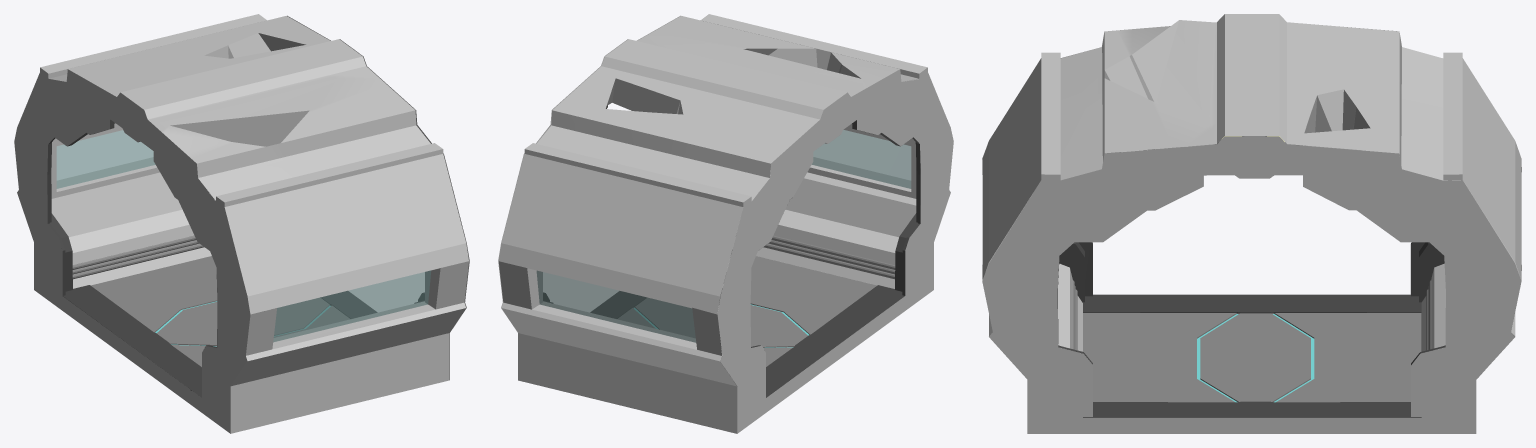
File: Hallway_A_Window_Destroyed_A.fbx
3 views of the same model, side by side, from view 1: azimuth 30°, elevation 25°; view 2: azimuth 150°, elevation 25°; view 3: azimuth 270°, elevation 25° (orthographic). The views are drawn at different scales.
Parts seen in each view (by area): view 1: Hallway_A_Window_Destroyed_A; view 2: Hallway_A_Window_Destroyed_A; view 3: Hallway_A_Window_Destroyed_A.
Part boxes in pixels (x1=…): Hallway_A_Window_Destroyed_A: x1=14, y1=14, x2=469, y2=433; Hallway_A_Window_Destroyed_A: x1=498, y1=14, x2=953, y2=433; Hallway_A_Window_Destroyed_A: x1=982, y1=14, x2=1521, y2=433.
Bounding box in the file's own units: 2.99 × 5.58 × 3.4.
